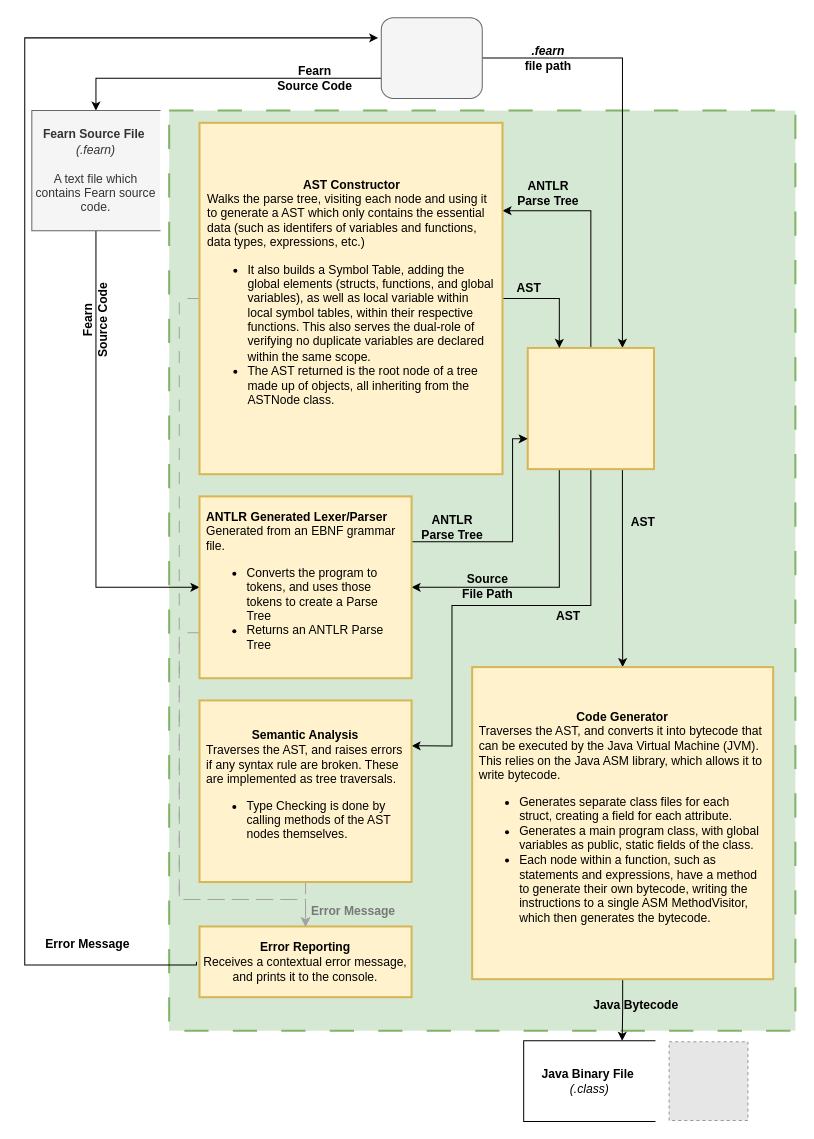
Image size: 814x1139. Some labels were removed from this diagram. Grey dashed boxes stand in for pictures. Each missing label, with the centre of its shape:
"Developer" goes at (431,57).
"Main Control Process Main process that calls other modules" goes at (590,408).
